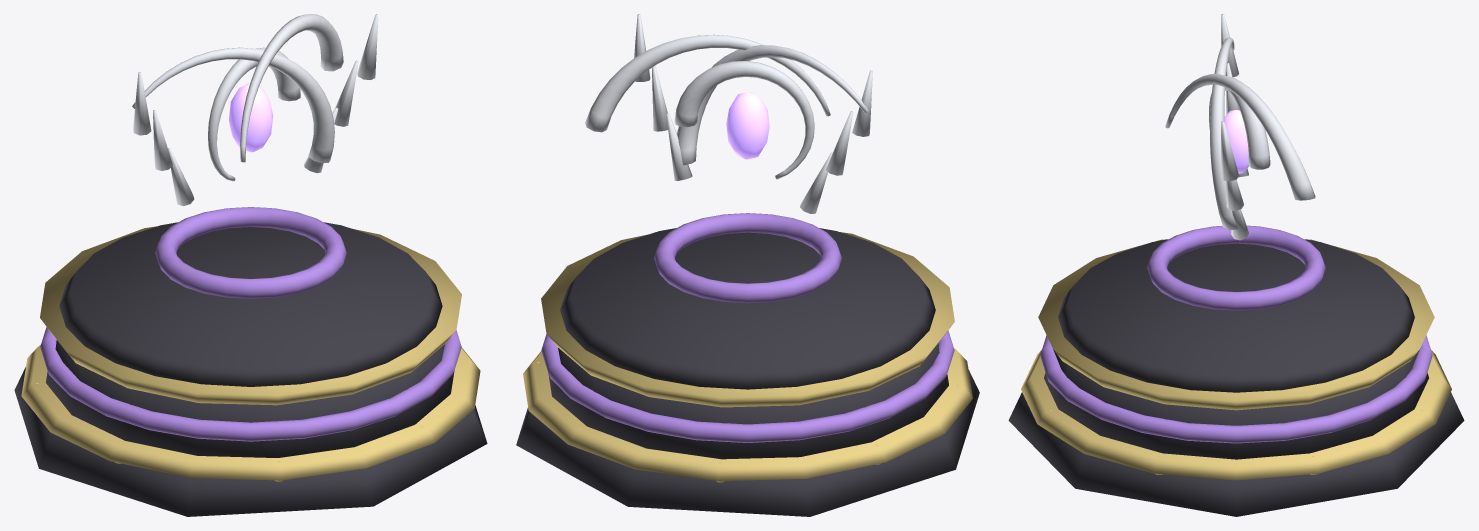
The picture shows the model from 3 angles, left to right: view 1: azimuth 30°, elevation 25°; view 2: azimuth 150°, elevation 25°; view 3: azimuth 270°, elevation 25°; orthographic projection. The views are drawn at different scales.
Visible parts, largest first — view 1: FA-003_Oberon; view 2: FA-003_Oberon; view 3: FA-003_Oberon.
Part boxes in pixels (<box>): FA-003_Oberon: <box>14,14,487,516</box>; FA-003_Oberon: <box>516,14,979,516</box>; FA-003_Oberon: <box>1008,14,1464,516</box>.
Size of the model in its own units: 0.92 by 0.7934 by 0.92.
